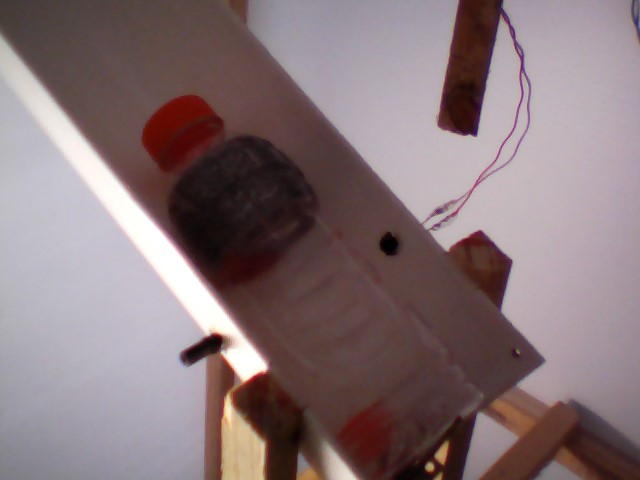plastico: (138, 93, 488, 480)
